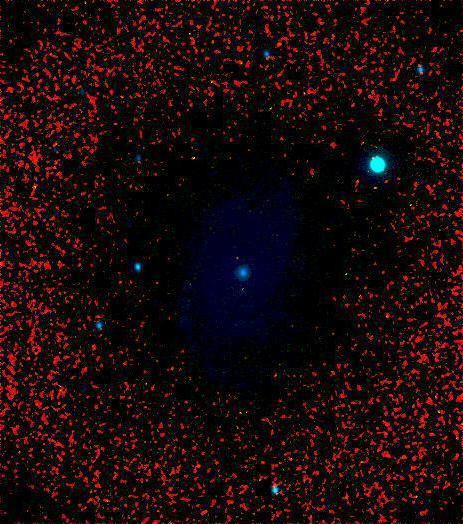star: (219, 240, 249, 270)
